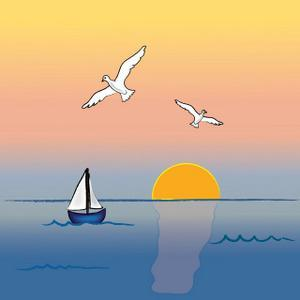bird: (80, 42, 147, 109), (175, 96, 225, 133)
boat: (66, 165, 107, 225)
